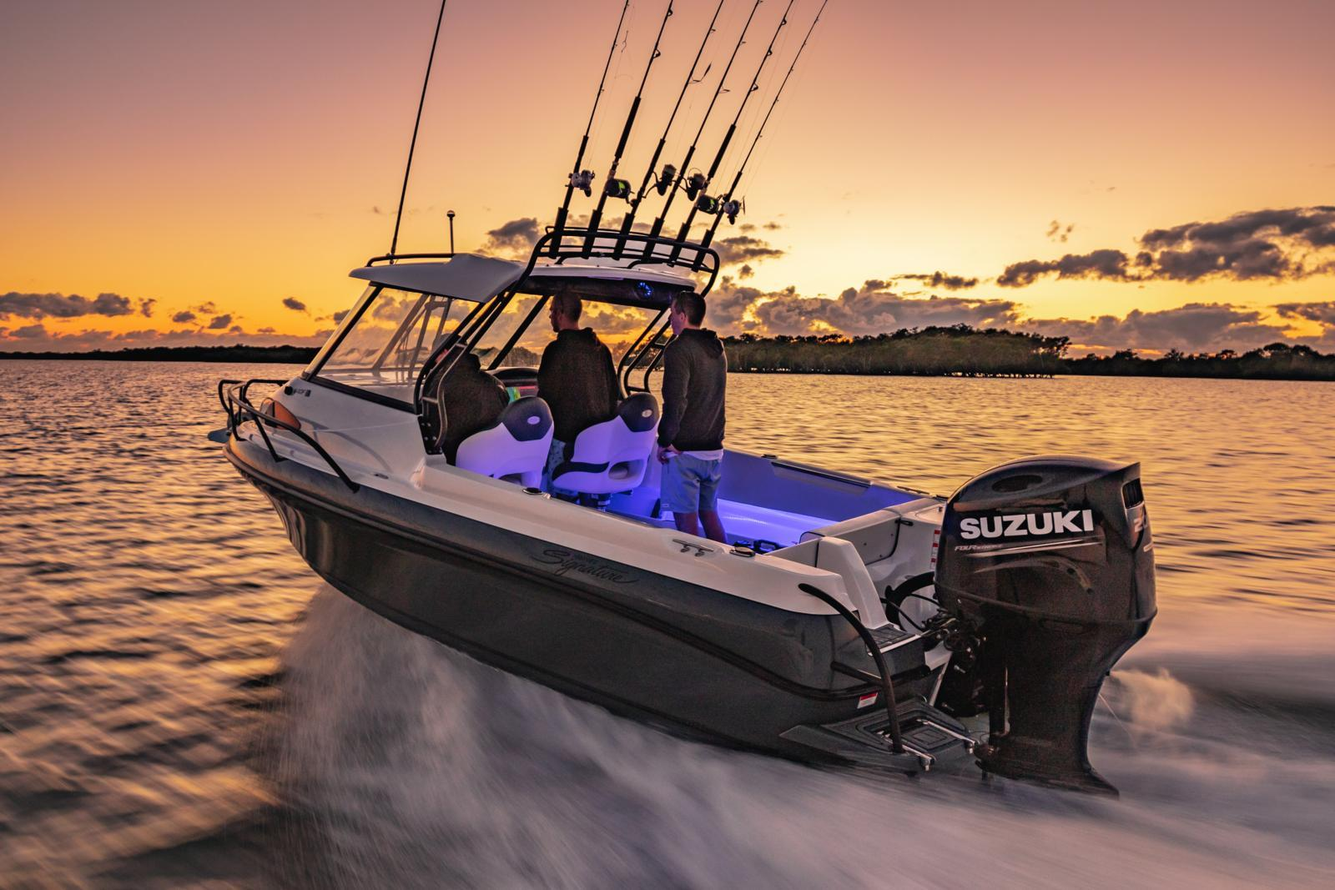fishing boat: (195, 0, 1171, 806)
